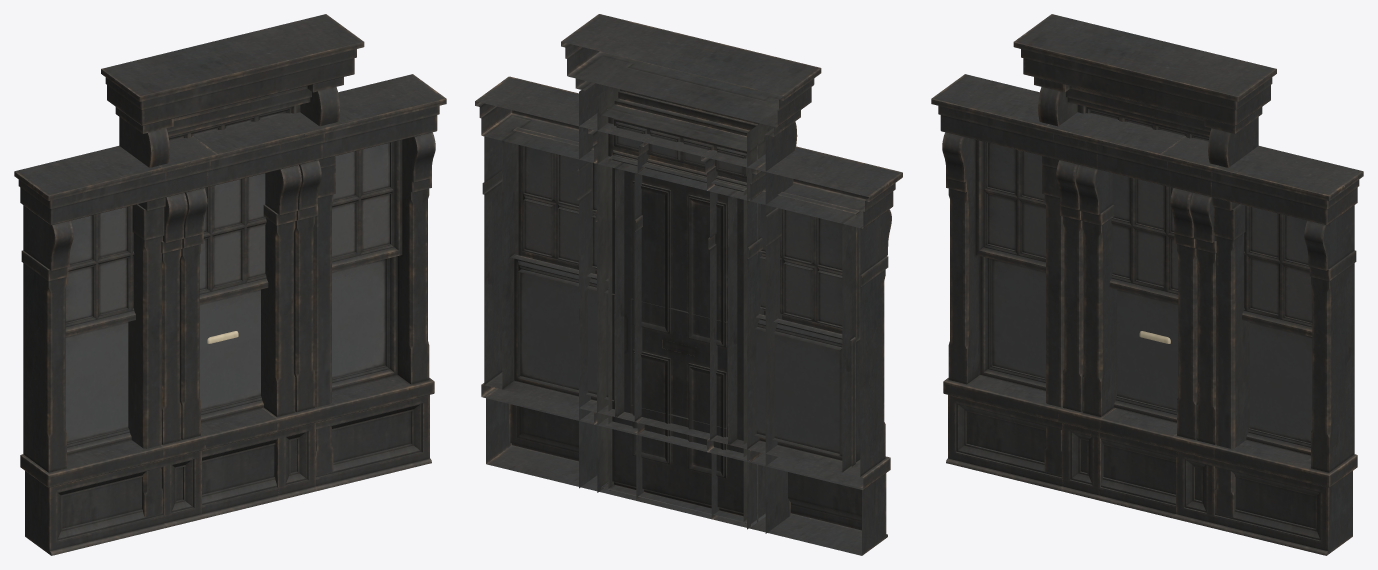
Rendered from facade.gltf.
3 renders of one model, left to right at view 1: azimuth 30°, elevation 25°; view 2: azimuth 150°, elevation 25°; view 3: azimuth 330°, elevation 25°, orthographic.
Parts seen in each view (by area): view 1: window_centered_double_01, window_centered_small_01, door_centered_small_01; view 2: window_centered_double_01, door_centered_small_01, window_centered_small_01; view 3: window_centered_double_01, window_centered_small_01, door_centered_small_01.
Boxes of the visible parts, bbox=[...] form: window_centered_double_01: bbox=[14, 74, 446, 555]; window_centered_small_01: bbox=[159, 112, 332, 526]; door_centered_small_01: bbox=[101, 14, 364, 517]; window_centered_double_01: bbox=[475, 76, 902, 555]; door_centered_small_01: bbox=[561, 14, 821, 533]; window_centered_small_01: bbox=[588, 126, 765, 527]; window_centered_double_01: bbox=[931, 74, 1363, 555]; window_centered_small_01: bbox=[1045, 112, 1218, 526]; door_centered_small_01: bbox=[1013, 14, 1276, 517].
Bounding box in the file's own units: 2.62 × 2.81 × 0.44.
2 materials, 2 textured.
